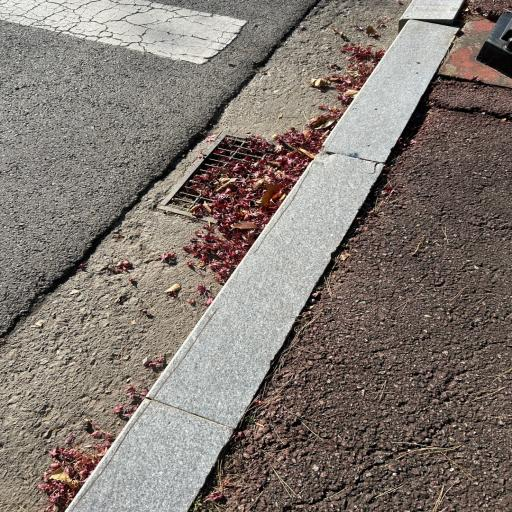debris: (248, 140, 272, 153), (214, 150, 223, 153)
drain: (164, 134, 315, 229)
